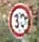limite 30: (7, 1, 32, 38)
